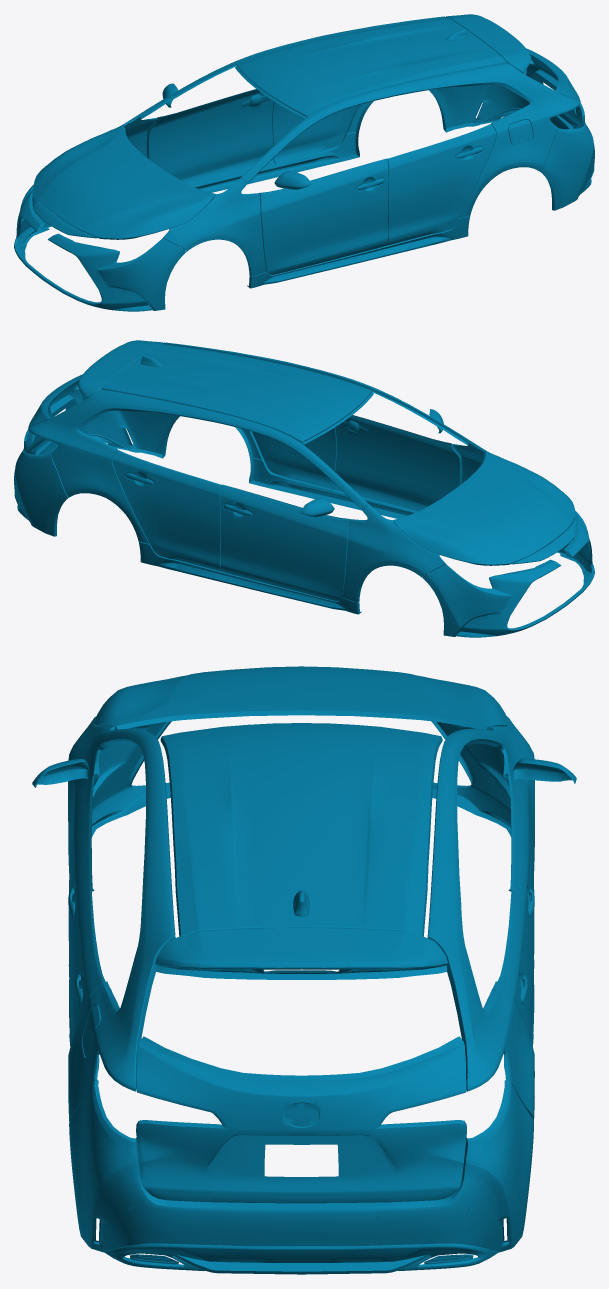
Rendered from Altiss.glb.
3 renders of one model, top to bottom at view 1: azimuth 30°, elevation 25°; view 2: azimuth 150°, elevation 25°; view 3: azimuth 270°, elevation 25°, orthographic. The views are drawn at different scales.
Parts seen in each view (by area): view 1: Exterior_Exterior; view 2: Exterior_Exterior; view 3: Exterior_Exterior.
Part boxes in pixels (x1,y1,x2,y2): Exterior_Exterior: [14, 14, 594, 311]; Exterior_Exterior: [14, 340, 594, 637]; Exterior_Exterior: [32, 666, 576, 1274].
Size of the model in its own units: 4.5 by 1.27 by 2.04.
